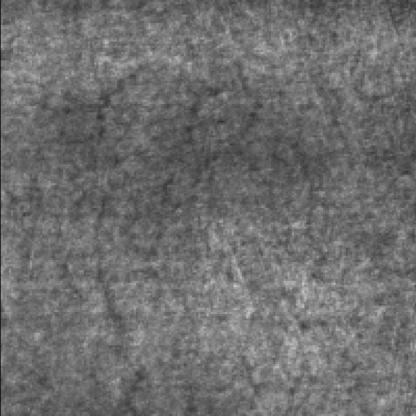crazing: (156, 56, 324, 266), (52, 63, 146, 406)
